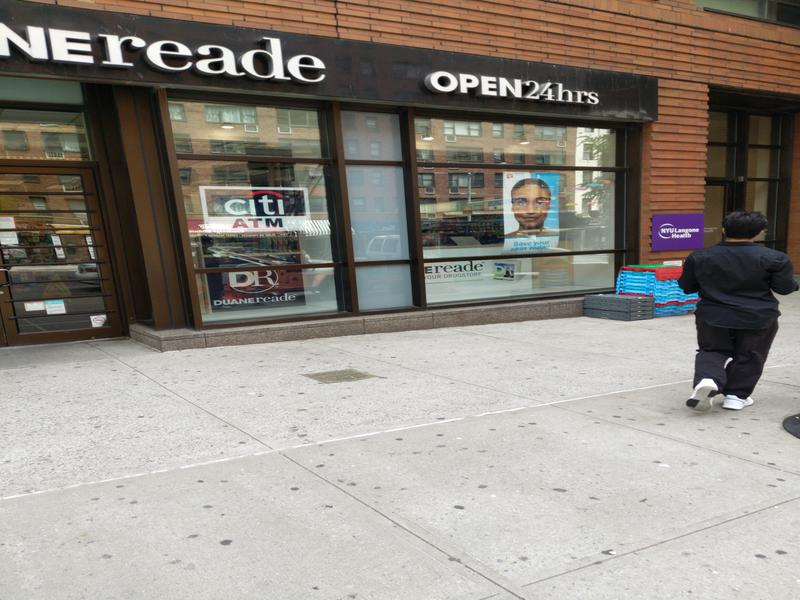door: (1, 153, 130, 349)
